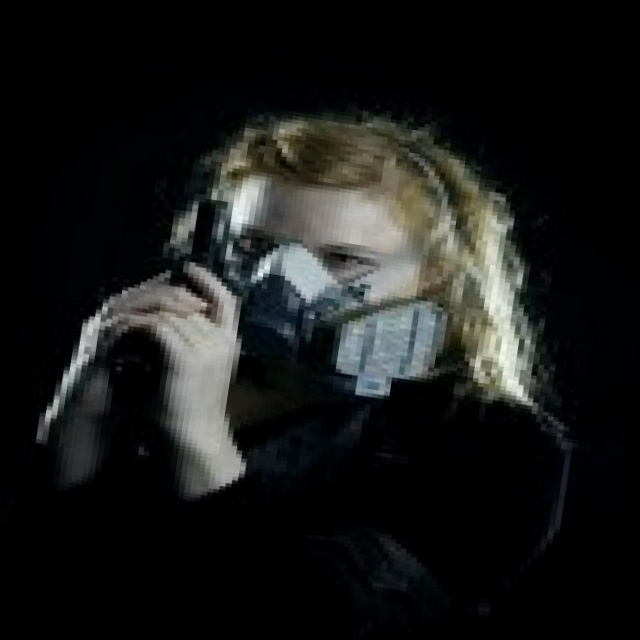gun: (72, 168, 281, 424)
